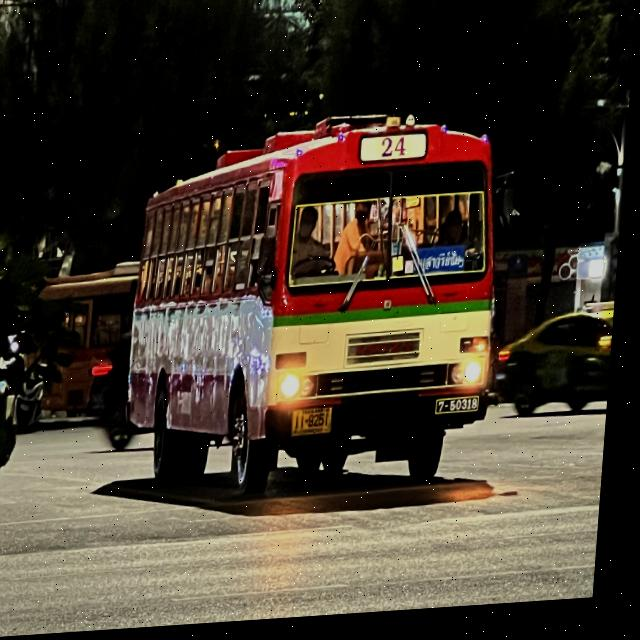BMTA-bus: (125, 113, 518, 506)
Bus-Line-Number: (379, 141, 414, 168)
Destination-Sign-Normal: (413, 250, 474, 282)
